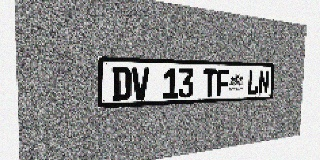1: (162, 68, 178, 99)
3: (178, 68, 194, 98)
D: (112, 67, 131, 101)
F: (216, 69, 230, 96)
L: (247, 70, 259, 95)
N: (258, 70, 269, 95)
T: (203, 69, 217, 97)
V: (132, 67, 149, 100)
